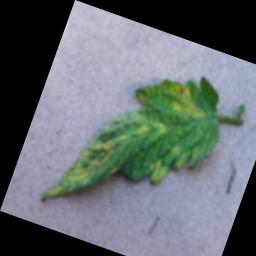Leaf_Mold: (42, 111, 132, 218), (161, 76, 216, 123), (124, 107, 171, 142), (165, 139, 200, 174), (144, 156, 173, 188)
